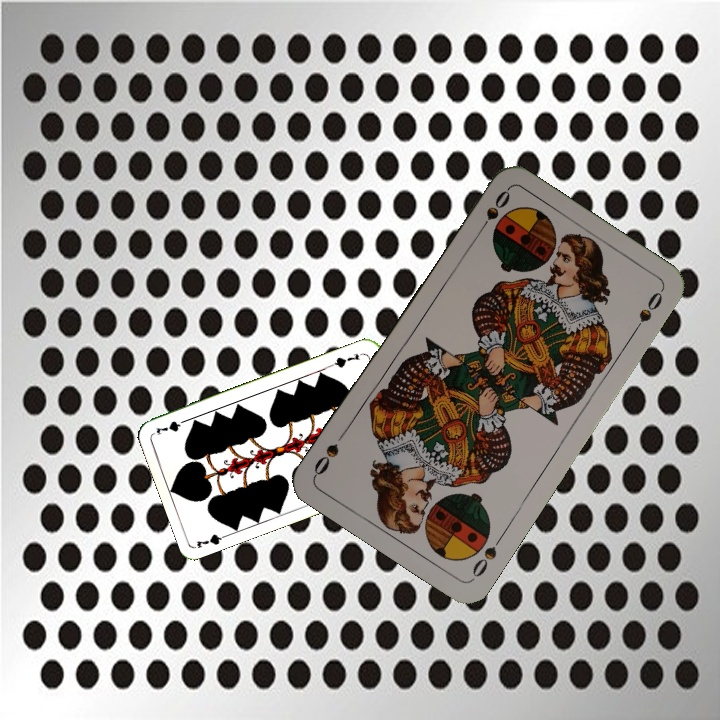G7: (192, 529, 233, 551), (328, 349, 367, 370)
SO: (473, 186, 513, 238), (467, 530, 507, 582)
